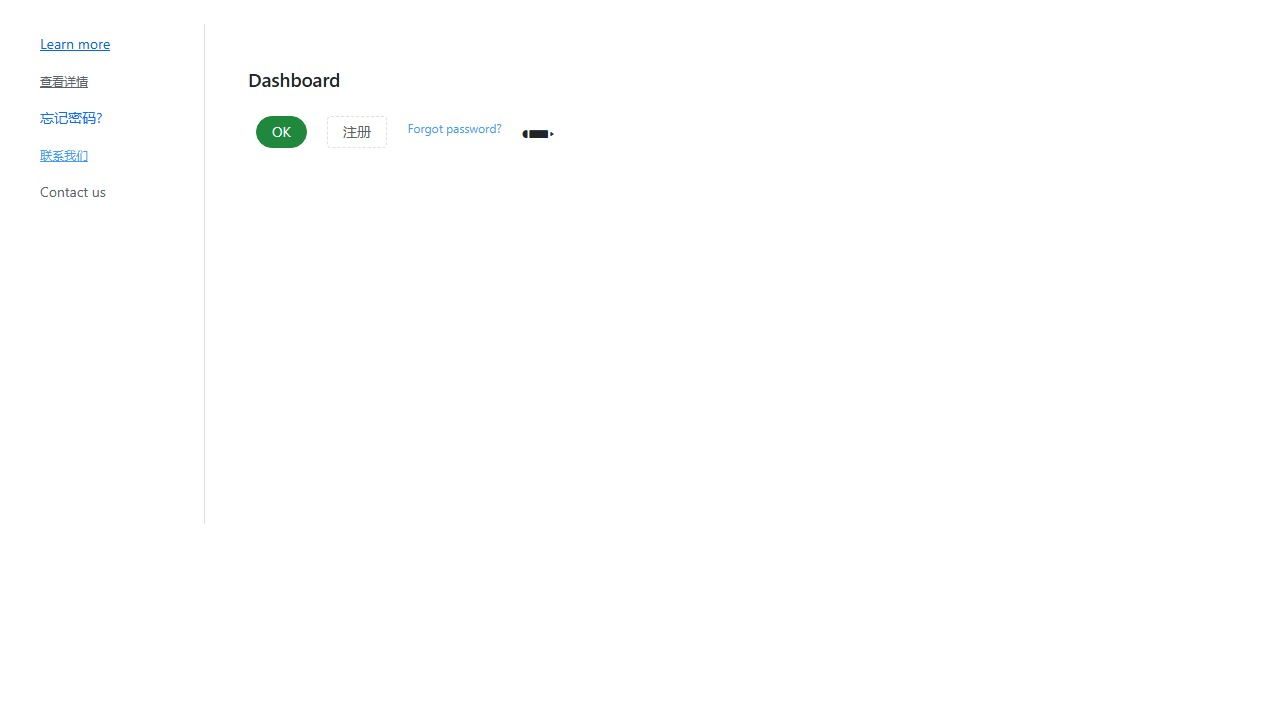button: (327, 116, 387, 148), (256, 116, 307, 148)
icon: (522, 116, 554, 148)
link: (407, 120, 502, 136), (40, 34, 110, 53), (40, 182, 106, 201), (40, 108, 102, 127), (40, 73, 88, 89), (40, 147, 88, 163)
